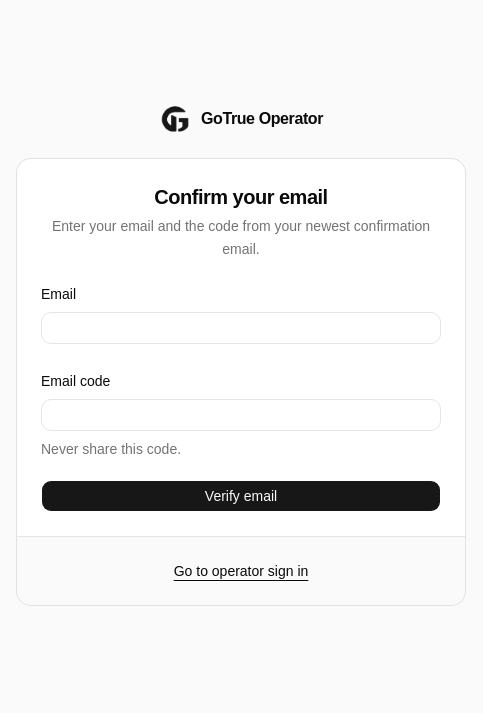
Test: email workflows › blocks an ambiguous proof submission and offers no privileged inspection link
In the field labelled "Email": x=241, y=328 [41,312,441,344], type "invited@example.test"
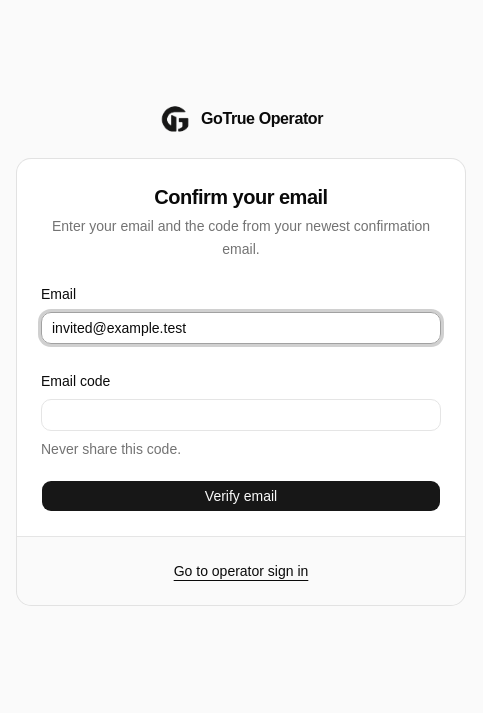
In the field labelled "Email code": x=241, y=415 [41,399,441,431], type "123456"
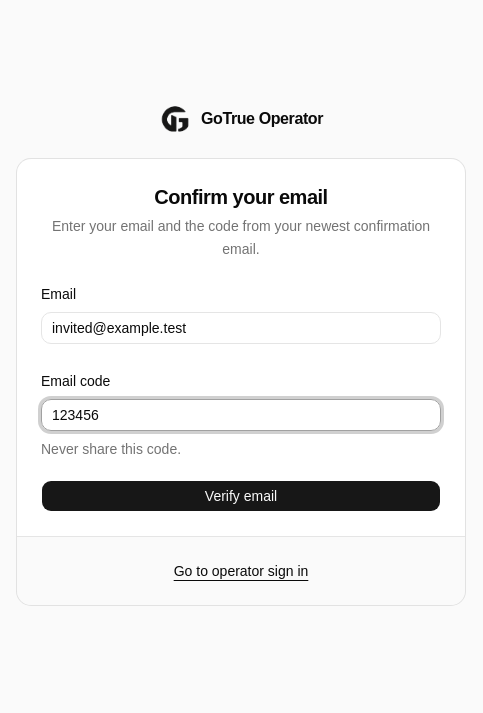
Click the button "Verify email": x=241, y=496 [41,480,441,512]
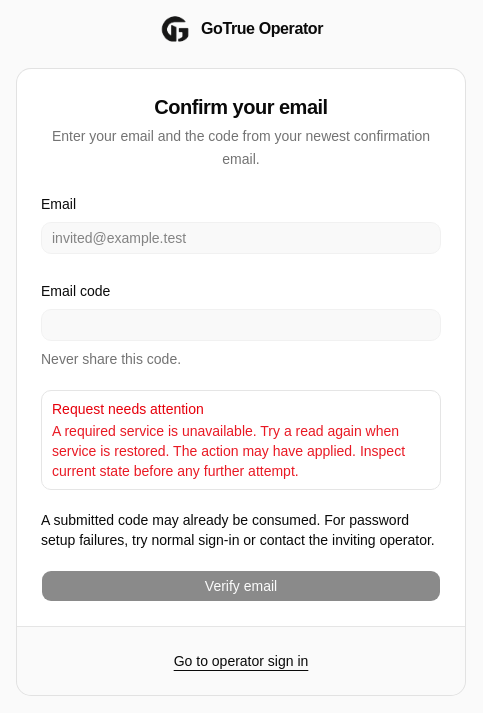
Expected: the message is shown, [41,390,441,490]
Expected: the button "Verify email" is disabled, [41,570,441,602]
